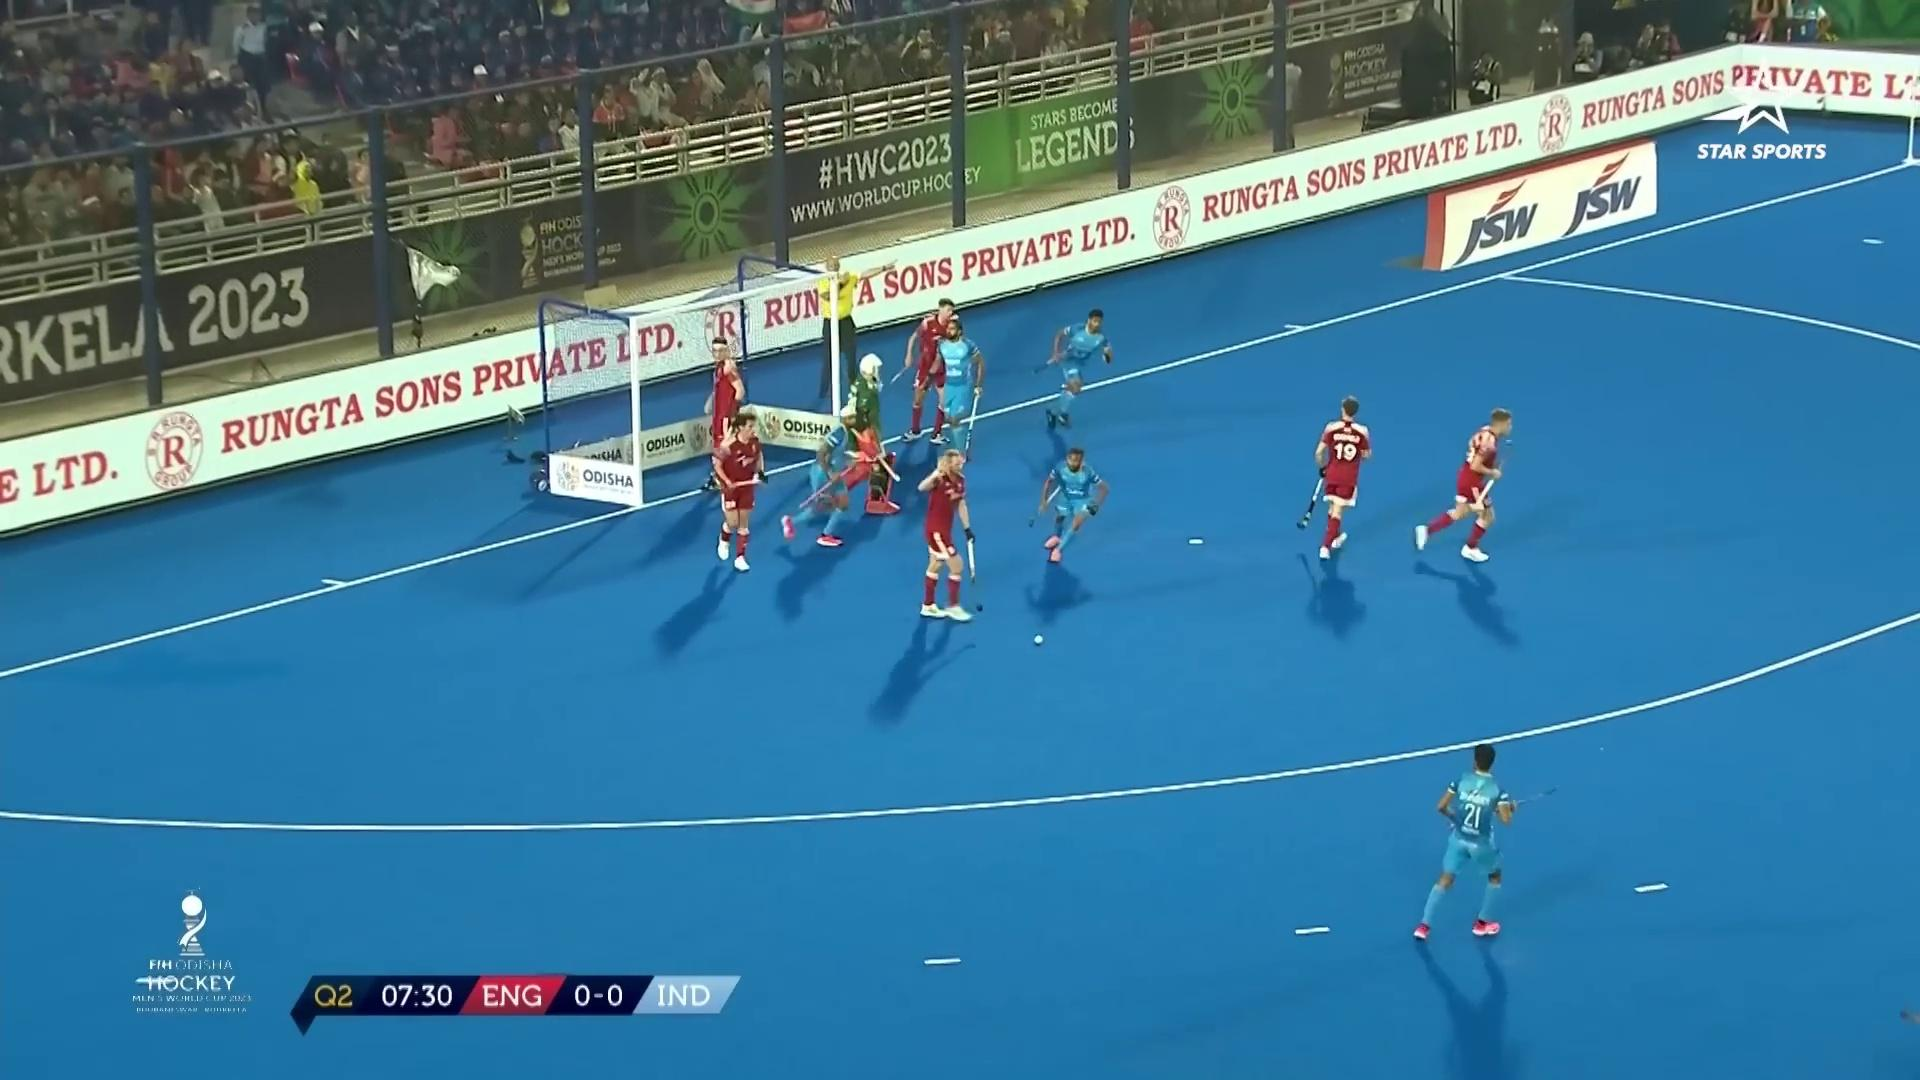ball: (1023, 624, 1058, 657)
